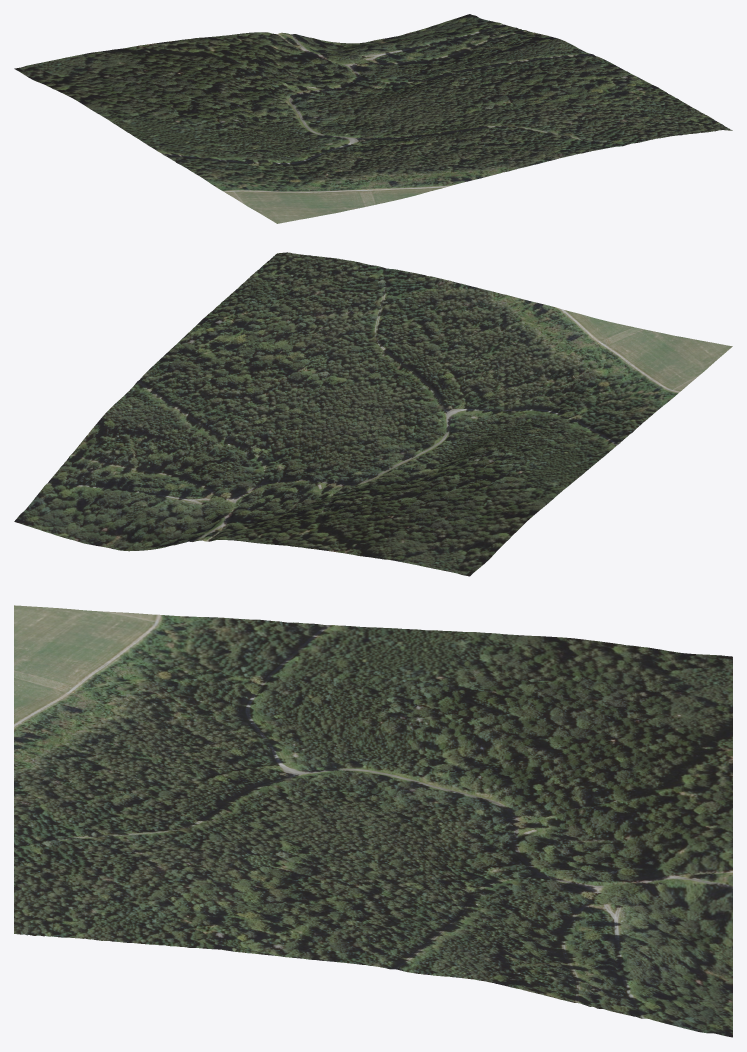
File: terrain_0_3.glb
3 views of the same model, one above another, from view 1: azimuth 30°, elevation 25°; view 2: azimuth 150°, elevation 25°; view 3: azimuth 270°, elevation 25° (orthographic). The views are drawn at different scales.
Visible parts, largest first — view 1: geometry_0; view 2: geometry_0; view 3: geometry_0.
Boxes of the visible parts, x1=… form: geometry_0: x1=14, y1=14, x2=732, y2=223; geometry_0: x1=14, y1=252, x2=732, y2=576; geometry_0: x1=14, y1=605, x2=732, y2=1037.
Bounding box in the file's own units: 499 × 103 × 499.
1 material, 1 textured.
